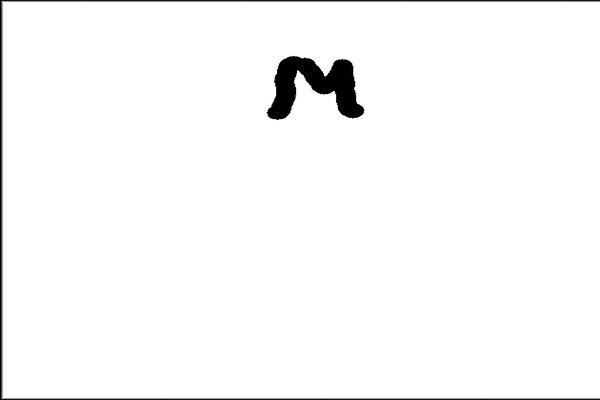M: (268, 53, 366, 123)
